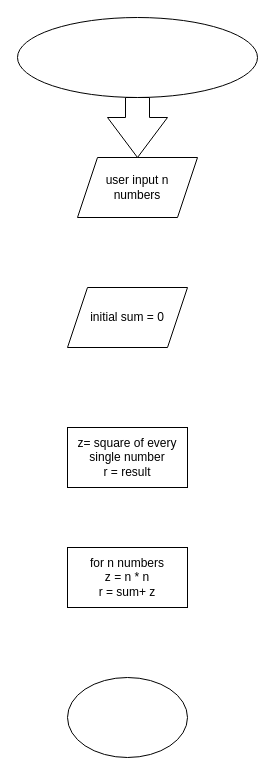
This 275x775 diagram has some shape labels left out. The box of each missing label's shape, as (x1, y1, x2, y2) in pixels:
end: (66, 676, 188, 758)
start: (16, 16, 258, 98)
